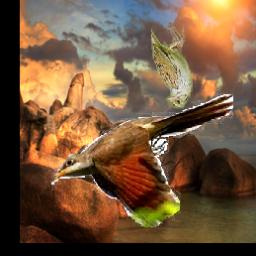Cuckoo: (51, 94, 233, 228)
Sparrow: (151, 24, 193, 109)
